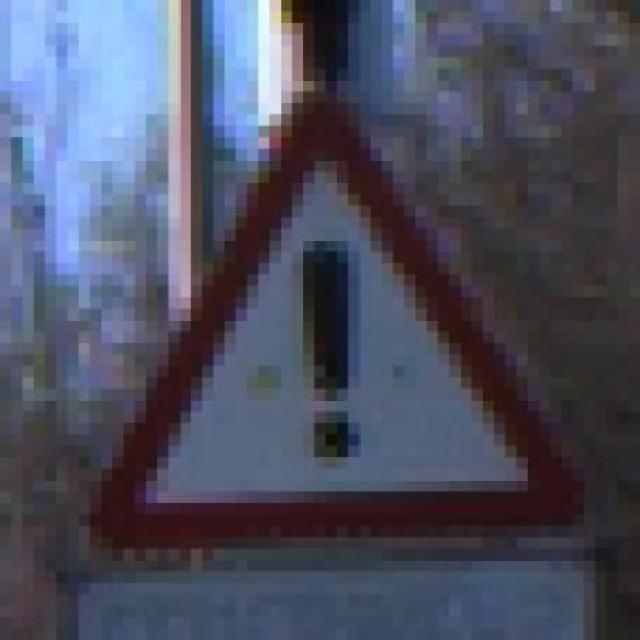Attention Please-: (83, 88, 589, 546)
